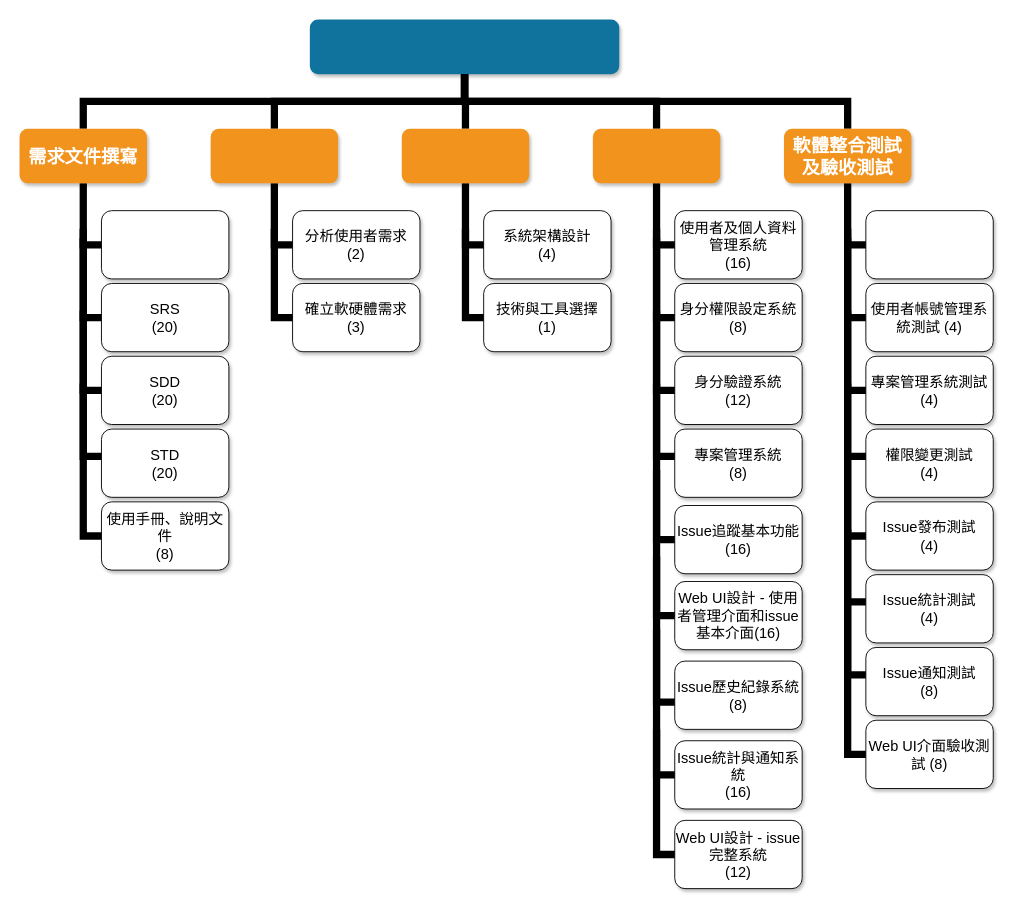
Some shapes in this 1015 by 911 pixel diagram are drawn without their labels. Each missing label, with the centre of its shape:
ITS系統: (465,47)
PEP (16): (165,245)
使用者登入、註冊、個人資料設定測試 (4): (930,245)
系統架構與設計: (466,157)
軟體實作及單元測試: (657,157)
需求分析與定義: (275,157)
